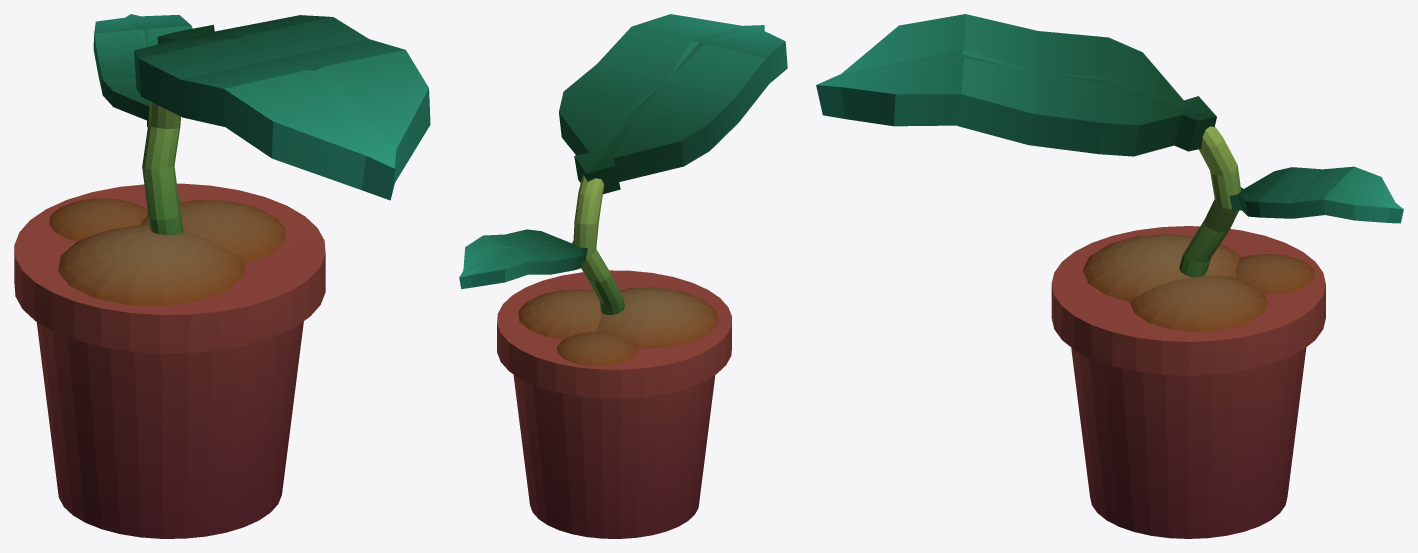
Rendered from Plant.fbx.
3 views of the same model, side by side, from view 1: azimuth 30°, elevation 25°; view 2: azimuth 150°, elevation 25°; view 3: azimuth 270°, elevation 25° (orthographic). The views are drawn at different scales.
Parts seen in each view (by area): view 1: Pot, leaf, dirt_3, leaf_2, dirt_1, stilk, dirt_2; view 2: Pot, leaf, dirt_3, leaf_2, dirt_1, stilk, dirt_2; view 3: Pot, leaf, leaf_2, dirt_1, dirt_3, stilk, dirt_2.
Boxes of the visible parts, <box> form: Pot: <box>14,183,325,538</box>; leaf: <box>134,15,430,200</box>; dirt_3: <box>58,225,245,305</box>; leaf_2: <box>93,14,192,126</box>; dirt_1: <box>140,200,286,263</box>; stilk: <box>142,101,183,235</box>; dirt_2: <box>49,198,147,241</box>; Pot: <box>497,270,731,538</box>; leaf: <box>559,14,787,194</box>; dirt_3: <box>596,287,718,348</box>; leaf_2: <box>459,229,587,288</box>; dirt_1: <box>518,289,601,339</box>; stilk: <box>573,175,624,314</box>; dirt_2: <box>557,332,637,366</box>; Pot: <box>1051,226,1325,538</box>; leaf: <box>816,14,1216,156</box>; leaf_2: <box>1229,166,1403,223</box>; dirt_1: <box>1129,275,1268,331</box>; dirt_3: <box>1082,234,1242,301</box>; stilk: <box>1179,126,1240,277</box>; dirt_2: <box>1235,254,1315,294</box>.
Bounding box in the file's own units: 353 × 642 × 756.
1 material, 1 textured.
